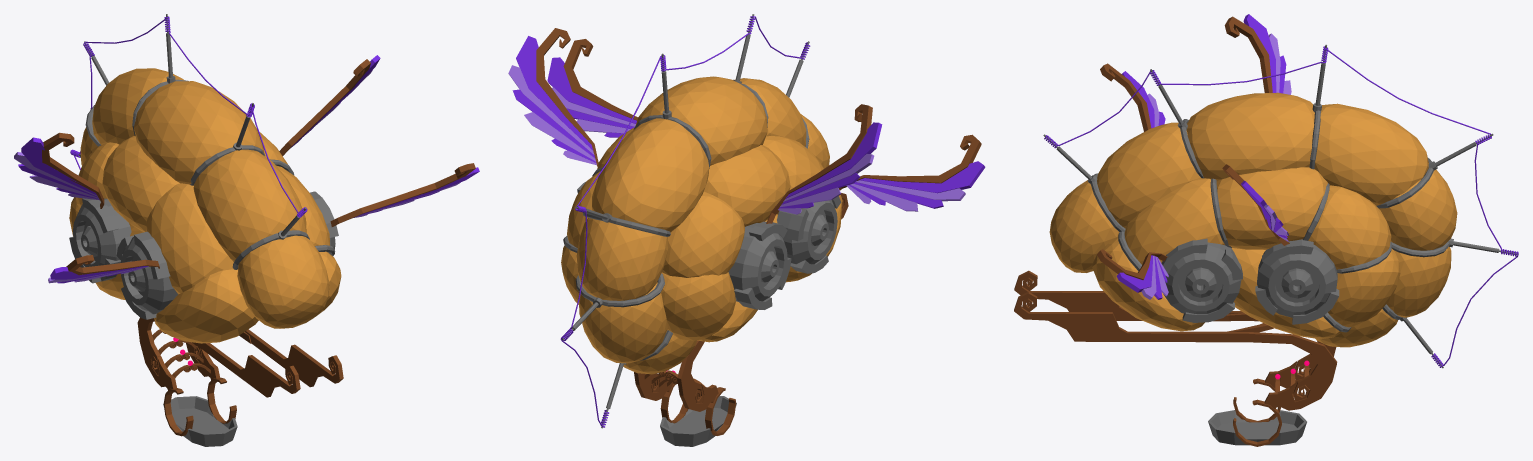
Rendered from flying_thing.glb.
3 views of the same model, side by side, from view 1: azimuth 30°, elevation 25°; view 2: azimuth 150°, elevation 25°; view 3: azimuth 270°, elevation 25° (orthographic). The views are drawn at different scales.
Visible parts, largest first — view 1: Icosphere.045; view 2: Icosphere.045; view 3: Icosphere.045.
Part boxes in pixels (<box>): Icosphere.045: <box>14,14,479,446</box>; Icosphere.045: <box>508,14,985,446</box>; Icosphere.045: <box>1014,14,1518,446</box>.
Size of the model in its own units: 17.16 by 15.15 by 17.72.
